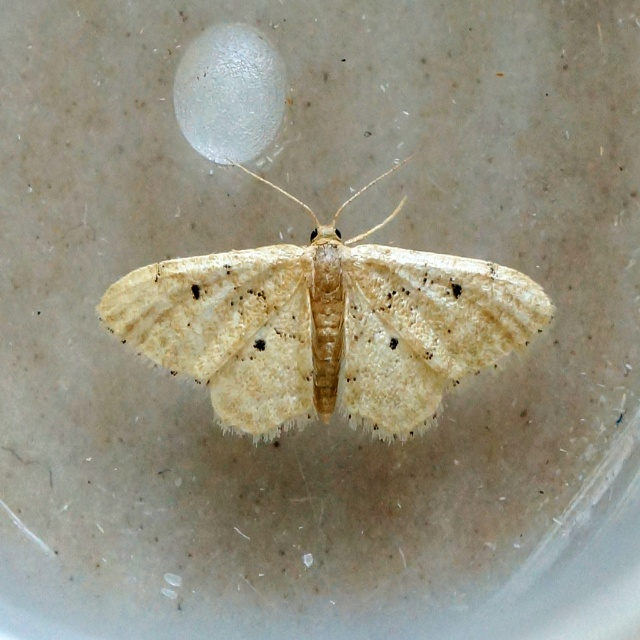Butterfly: (95, 156, 553, 446)
